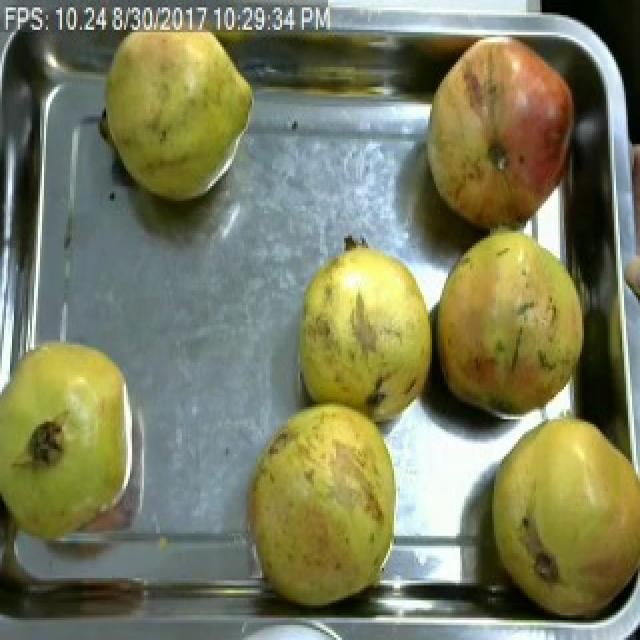fruit: (232, 387, 410, 618), (472, 404, 640, 628), (414, 24, 588, 240), (0, 322, 152, 560), (430, 218, 594, 434), (94, 7, 262, 211), (290, 223, 438, 419)
